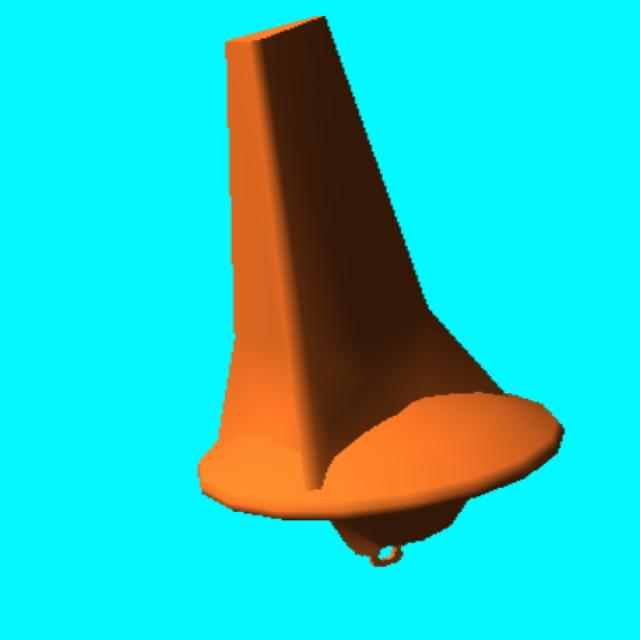OrangeBuoy: (199, 18, 562, 565)
